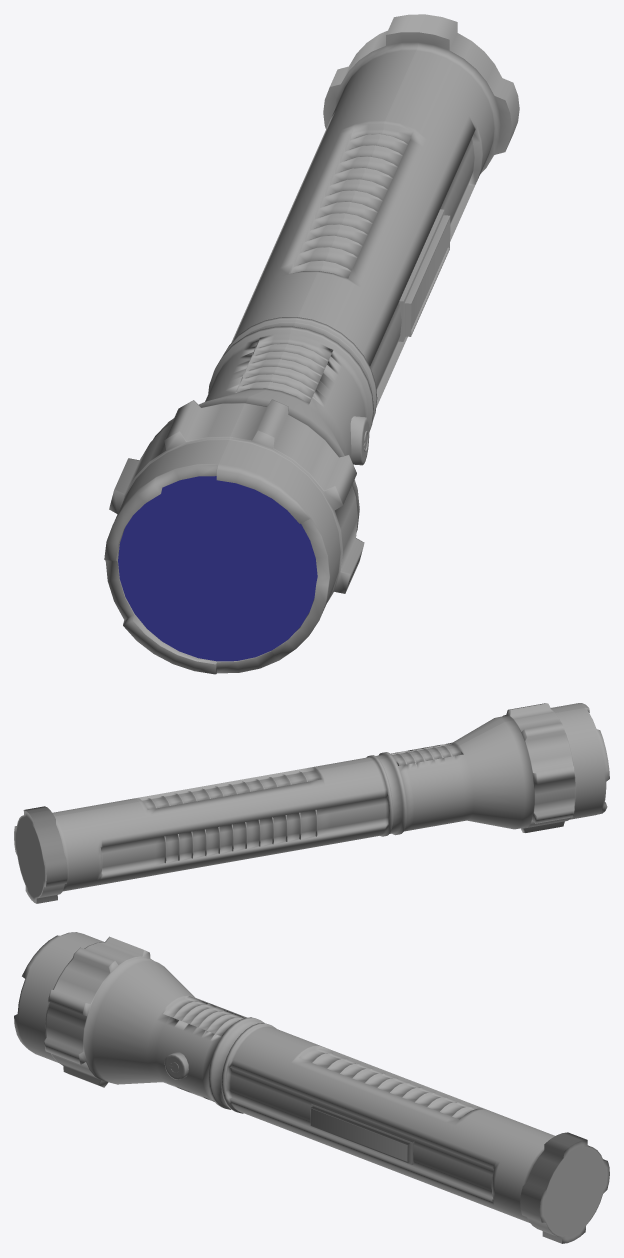
Rendered from Flashlight_01.obj.
3 views of the same model, one above another, from view 1: azimuth 30°, elevation 25°; view 2: azimuth 150°, elevation 25°; view 3: azimuth 270°, elevation 25° (orthographic). The views are drawn at different scales.
Visible parts, largest first — view 1: Flashlight_body_Cube.001, Glass_Cylinder.003; view 2: Flashlight_body_Cube.001; view 3: Flashlight_body_Cube.001.
Boxes of the visible parts, x1,y1,x2,y2 form: Flashlight_body_Cube.001: (104,14,519,674); Glass_Cylinder.003: (118,476,317,661); Flashlight_body_Cube.001: (14,703,609,903); Flashlight_body_Cube.001: (14,932,609,1243).
Bounding box in the file's own units: 0.1926 × 0.0516 × 0.2172.
